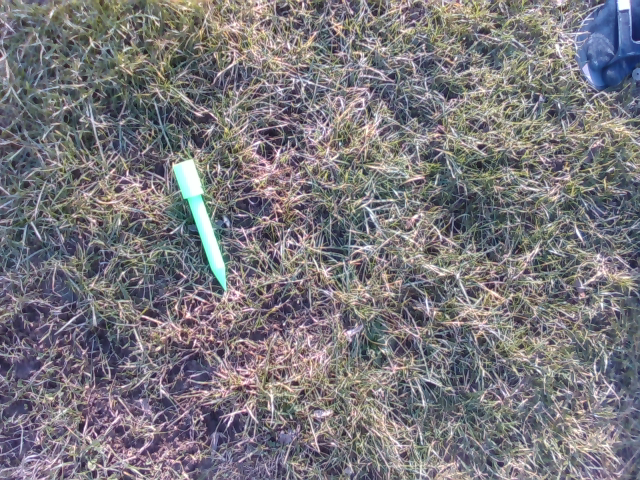Probe: (169, 157, 232, 294)
